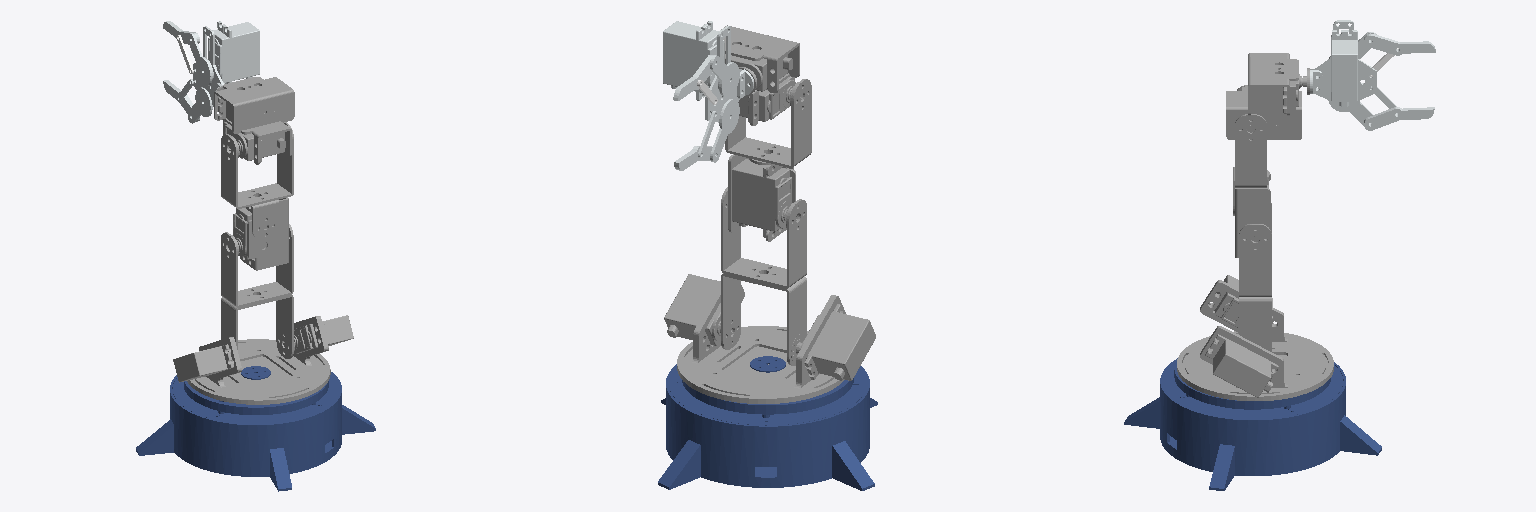
The robot description file, URDF, robot "robot_arm":
<?xml version="1.0" ?>
<!-- =================================================================================== -->
<!-- |    This document was autogenerated by xacro from robot_arm.xacro                | -->
<!-- |    EDITING THIS FILE BY HAND IS NOT RECOMMENDED                                 | -->
<!-- =================================================================================== -->
<robot name="robot_arm">
  <material name="silver">
    <color rgba="0.7 0.7 0.7 1.0"/>
  </material>
  <material name="blue">
    <color rgba="0.3 0.4 0.6 1.0"/>
  </material>
  <transmission name="joint_1_trans">
    <type>transmission_interface/SimpleTransmission</type>
    <joint name="joint_1">
      <hardwareInterface>hardware_interface/PositionJointInterface</hardwareInterface>
    </joint>
    <actuator name="joint_1_actr">
      <hardwareInterface>hardware_interface/PositionJointInterface</hardwareInterface>
      <mechanicalReduction>1</mechanicalReduction>
    </actuator>
  </transmission>
  <transmission name="joint_2_trans">
    <type>transmission_interface/SimpleTransmission</type>
    <joint name="joint_2">
      <hardwareInterface>hardware_interface/PositionJointInterface</hardwareInterface>
    </joint>
    <actuator name="joint_2_actr">
      <hardwareInterface>hardware_interface/PositionJointInterface</hardwareInterface>
      <mechanicalReduction>1</mechanicalReduction>
    </actuator>
  </transmission>
  <transmission name="joint_3_trans">
    <type>transmission_interface/SimpleTransmission</type>
    <joint name="joint_3">
      <hardwareInterface>hardware_interface/PositionJointInterface</hardwareInterface>
    </joint>
    <actuator name="joint_3_actr">
      <hardwareInterface>hardware_interface/PositionJointInterface</hardwareInterface>
      <mechanicalReduction>1</mechanicalReduction>
    </actuator>
  </transmission>
  <transmission name="joint_4_trans">
    <type>transmission_interface/SimpleTransmission</type>
    <joint name="joint_4">
      <hardwareInterface>hardware_interface/PositionJointInterface</hardwareInterface>
    </joint>
    <actuator name="joint_4_actr">
      <hardwareInterface>hardware_interface/PositionJointInterface</hardwareInterface>
      <mechanicalReduction>1</mechanicalReduction>
    </actuator>
  </transmission>
  <transmission name="joint_5_trans">
    <type>transmission_interface/SimpleTransmission</type>
    <joint name="joint_5">
      <hardwareInterface>hardware_interface/PositionJointInterface</hardwareInterface>
    </joint>
    <actuator name="joint_5_actr">
      <hardwareInterface>hardware_interface/PositionJointInterface</hardwareInterface>
      <mechanicalReduction>1</mechanicalReduction>
    </actuator>
  </transmission>
  <transmission name="gripper_joint_trans">
    <type>transmission_interface/SimpleTransmission</type>
    <joint name="gripper_joint">
      <hardwareInterface>hardware_interface/PositionJointInterface</hardwareInterface>
    </joint>
    <actuator name="gripper_joint_actr">
      <hardwareInterface>hardware_interface/PositionJointInterface</hardwareInterface>
      <mechanicalReduction>1</mechanicalReduction>
    </actuator>
  </transmission>
  <gazebo>
    <plugin filename="libgazebo_ros_control.so" name="gazebo_ros_control"/>
  </gazebo>
  <gazebo reference="base_link">
    <material>Gazebo/Silver</material>
    <mu1>0.2</mu1>
    <mu2>0.2</mu2>
    <selfCollide>true</selfCollide>
    <gravity>true</gravity>
  </gazebo>
  <gazebo reference="Link1_1">
    <material>Gazebo/Silver</material>
    <mu1>0.2</mu1>
    <mu2>0.2</mu2>
    <selfCollide>true</selfCollide>
  </gazebo>
  <gazebo reference="Link2_1">
    <material>Gazebo/Silver</material>
    <mu1>0.2</mu1>
    <mu2>0.2</mu2>
    <selfCollide>true</selfCollide>
  </gazebo>
  <gazebo reference="Link3_1">
    <material>Gazebo/Silver</material>
    <mu1>0.2</mu1>
    <mu2>0.2</mu2>
    <selfCollide>true</selfCollide>
  </gazebo>
  <gazebo reference="Link4_1">
    <material>Gazebo/Silver</material>
    <mu1>0.2</mu1>
    <mu2>0.2</mu2>
    <selfCollide>true</selfCollide>
  </gazebo>
  <link name="world"/>
  <joint name="base_fixed_joint" type="fixed">
    <parent link="world"/>
    <child link="base_link"/>
    <origin rpy="0 0 0" xyz="0 0 0"/>
  </joint>
  <link name="base_link">
    <inertial>
      <origin rpy="0 0 0" xyz="-0.0019226671084236508 0.03127199959893212 0.003074002176362074"/>
      <mass value="1.5374567570279134"/>
      <inertia ixx="0.0135" ixy="0.0" ixz="0.0" iyy="0.0135" iyz="0.0" izz="0.05"/>
    </inertial>
    <visual>
      <origin rpy="1.57 0 0" xyz="0 0 0"/>
      <geometry>
        <mesh filename="package://my_arm_description/meshes/base_link.stl" scale="0.001 0.001 0.001"/>
      </geometry>
      <material name="blue"/>
    </visual>
    <collision>
      <origin rpy="0 0 0" xyz="0 0 0"/>
      <geometry>
        <mesh filename="package://my_arm_description/meshes/base_link.stl" scale="0.001 0.001 0.001"/>
      </geometry>
    </collision>
  </link>
  <link name="Link1_1">
    <inertial>
      <origin rpy="0 0 0" xyz="-4.991869489348773e-06 0.01780900870871517 0.005735315172792203"/>
      <mass value="0.8948947756149551"/>
      <inertia ixx="0.000574" ixy="-1.2e-05" ixz="-2e-05" iyy="0.002344" iyz="-7.9e-05" izz="0.002106"/>
    </inertial>
    <visual>
      <origin rpy="0 0 0" xyz="0.002688 -0.06295 -0.001684"/>
      <geometry>
        <mesh filename="package://my_arm_description/meshes/Link1_1.stl" scale="0.001 0.001 0.001"/>
      </geometry>
      <material name="silver"/>
    </visual>
    <collision>
      <origin rpy="0 0 0" xyz="0.002688 -0.06295 -0.001684"/>
      <geometry>
        <mesh filename="package://my_arm_description/meshes/Link1_1.stl" scale="0.001 0.001 0.001"/>
      </geometry>
    </collision>
  </link>
  <link name="Link2_1">
    <inertial>
      <origin rpy="0 0 0" xyz="0.025500212363618904 0.050000197846483144 2.9486110807164234e-07"/>
      <mass value="0.1268747558623512"/>
      <inertia ixx="0.000111" ixy="0.0" ixz="-0.0" iyy="7.8e-05" iyz="-0.0" izz="0.000176"/>
    </inertial>
    <visual>
      <origin rpy="0 0 0" xyz="0.028738 -0.084331 -0.001684"/>
      <geometry>
        <mesh filename="package://my_arm_description/meshes/Link2_1.stl" scale="0.001 0.001 0.001"/>
      </geometry>
      <material name="silver"/>
    </visual>
    <collision>
      <origin rpy="0 0 0" xyz="0.028738 -0.084331 -0.001684"/>
      <geometry>
        <mesh filename="package://my_arm_description/meshes/Link2_1.stl" scale="0.001 0.001 0.001"/>
      </geometry>
    </collision>
  </link>
  <link name="Link3_1">
    <inertial>
      <origin rpy="0 0 0" xyz="0.027076002474259824 0.019409440802769573 0.002368883434935072"/>
      <mass value="0.3877413615001566"/>
      <inertia ixx="0.00025" ixy="1e-05" ixz="0.0" iyy="0.000103" iyz="-7e-06" izz="0.00031"/>
    </inertial>
    <visual>
      <origin rpy="0 0 0" xyz="0.028738 -0.184331 -0.001684"/>
      <geometry>
        <mesh filename="package://my_arm_description/meshes/Link3_1.stl" scale="0.001 0.001 0.001"/>
      </geometry>
      <material name="silver"/>
    </visual>
    <collision>
      <origin rpy="0 0 0" xyz="0.028738 -0.184331 -0.001684"/>
      <geometry>
        <mesh filename="package://my_arm_description/meshes/Link3_1.stl" scale="0.001 0.001 0.001"/>
      </geometry>
    </collision>
  </link>
  <link name="Link4_1">
    <inertial>
      <origin rpy="0 0 0" xyz="0.02792782389157162 0.0015768795382742895 -0.009656526599892783"/>
      <mass value="0.30477625056794005"/>
      <inertia ixx="6.9e-05" ixy="-1e-06" ixz="2e-06" iyy="9.7e-05" iyz="0.0" izz="5.9e-05"/>
    </inertial>
    <visual>
      <origin rpy="0 0 0" xyz="0.030288 -0.27563 -0.005184"/>
      <geometry>
        <mesh filename="package://my_arm_description/meshes/Link4_1.stl" scale="0.001 0.001 0.001"/>
      </geometry>
      <material name="silver"/>
    </visual>
    <collision>
      <origin rpy="0 0 0" xyz="0.030288 -0.27563 -0.005184"/>
      <geometry>
        <mesh filename="package://my_arm_description/meshes/Link4_1.stl" scale="0.001 0.001 0.001"/>
      </geometry>
    </collision>
  </link>
  <link name="Link5_1">
    <inertial>
      <origin rpy="0 0 0" xyz="0.02792782389157162 0.0015768795382742895 -0.009656526599892783"/>
      <mass value="0.30477625056794005"/>
      <inertia ixx="6.9e-05" ixy="-1e-06" ixz="2e-06" iyy="9.7e-05" iyz="0.0" izz="5.9e-05"/>
    </inertial>
    <visual>
      <origin rpy="0 0 0" xyz="0.030288 -0.27563 -0.005184"/>
      <geometry>
        <mesh filename="package://my_arm_description/meshes/Link4_1.stl" scale="0.001 0.001 0.001"/>
      </geometry>
      <material name="silver"/>
    </visual>
    <collision>
      <origin rpy="0 0 0" xyz="0.030288 -0.27563 -0.005184"/>
      <geometry>
        <mesh filename="package://my_arm_description/meshes/Link4_1.stl" scale="0.001 0.001 0.001"/>
      </geometry>
    </collision>
  </link>
  <joint name="joint_1" type="revolute">
    <origin rpy="1.57 0 0" xyz="0 0 0.06"/>
    <parent link="base_link"/>
    <child link="Link1_1"/>
    <axis xyz="0 1 0"/>
    <limit effort="5.0" lower="-3.14" upper="3.14" velocity="1.57"/>
    <dynamics damping="0.05" friction="0.05"/>
  </joint>
  <joint name="joint_2" type="revolute">
    <origin rpy="0 0 0" xyz="-0.02605 0.021381 0.0"/>
    <parent link="Link1_1"/>
    <child link="Link2_1"/>
    <axis xyz="-1 0 0"/>
    <limit effort="5.0" lower="-1.57" upper="1.57" velocity="1.57"/>
    <dynamics damping="0.05" friction="0.05"/>
  </joint>
  <joint name="joint_3" type="revolute">
    <origin rpy="0 0 0" xyz="0.0 0.1 0.0"/>
    <parent link="Link2_1"/>
    <child link="Link3_1"/>
    <axis xyz="-1 0 0"/>
    <limit effort="5.0" lower="-2.2" upper="2.2" velocity="1.57"/>
    <dynamics damping="0.05" friction="0.05"/>
  </joint>
  <joint name="joint_4" type="revolute">
    <origin rpy="0 0 0" xyz="-0.00155 0.091299 0.0035"/>
    <parent link="Link3_1"/>
    <child link="Link4_1"/>
    <axis xyz="-1 0 0"/>
    <limit effort="5.0" lower="-3.14" upper="1.2" velocity="1.57"/>
    <dynamics damping="0.05" friction="0.05"/>
  </joint>
  <joint name="joint_5_fixed" type="fixed">
    <origin rpy="0 -1.57 0" xyz="0.02 0.025 -0.045"/>
    <parent link="Link4_1"/>
    <child link="Link5_1"/>
  </joint>
  <!-- gripper -->
  <joint name="joint_5" type="revolute">
    <origin rpy="1.57 0 -1.57" xyz="0 0 0"/>
    <parent link="Link5_1"/>
    <child link="grip_base_link"/>
    <axis xyz="0 0 1"/>
    <limit effort="5.0" lower="-3.14" upper="3.14" velocity="1.57"/>
  </joint>
  <link name="grip_base_link">
    <inertial>
      <origin rpy="0 0 0" xyz="-0.020531 -0.021072 0.02563"/>
      <mass value="0.0367"/>
      <inertia ixx="5.4785E-06" ixy="-5.5445E-08" ixz="-8.0352E-09" iyy="7.0866E-06" iyz="-7.7291E-13" izz="9.4579E-06"/>
    </inertial>
    <visual>
      <origin rpy="0 0 0" xyz="0 0 0"/>
      <geometry>
        <mesh filename="package://my_arm_description/meshes/gripper_meshes/grip_base_link.STL"/>
      </geometry>
      <material name="">
        <color rgba="0.89804 0.92157 0.92941 1"/>
      </material>
    </visual>
    <collision>
      <origin rpy="0 0 0" xyz="0 0 0"/>
      <geometry>
        <mesh filename="package://my_arm_description/meshes/gripper_meshes/grip_base_link.STL"/>
      </geometry>
    </collision>
  </link>
  <link name="hand_link1">
    <inertial>
      <origin rpy="0 0 0" xyz="-0.00523492547000686 0.00492501926066897 -0.00100000000000003"/>
      <mass value="0.00142065726893586"/>
      <inertia ixx="1.22964066308207E-07" ixy="8.46203793647206E-08" ixz="3.23650142493458E-27" iyy="1.33298297071557E-07" iyz="-7.87479068447034E-25" izz="2.55315258533807E-07"/>
    </inertial>
    <visual>
      <origin rpy="0 0 0" xyz="0 0 0"/>
      <geometry>
        <mesh filename="package://my_arm_description/meshes/gripper_meshes/hand_link1.STL"/>
      </geometry>
      <material name="">
        <color rgba="0.898039215686275 0.92156862745098 0.929411764705882 1"/>
      </material>
    </visual>
    <collision>
      <origin rpy="0 0 0" xyz="0 0 0"/>
      <geometry>
        <mesh filename="package://my_arm_description/meshes/gripper_meshes/hand_link1.STL"/>
      </geometry>
    </collision>
  </link>
  <joint name="hand_joint1" type="revolute">
    <origin rpy="1.5708 0 3.1416" xyz="0.015 0.00535 0.02625"/>
    <parent link="grip_base_link"/>
    <child link="hand_link1"/>
    <axis xyz="0 0 1"/>
    <limit effort="10" lower="-0.5" upper="0.5" velocity="10"/>
    <mimic joint="gripper_joint" multiplier="1"/>
  </joint>
  <link name="hand_grip1">
    <inertial>
      <origin rpy="0 0 0" xyz="0.00594567238082101 0.0203210851839823 -0.00399999969237515"/>
      <mass value="0.00187045062582082"/>
      <inertia ixx="4.0782602368236E-07" ixy="-7.95845983485053E-08" ixz="-1.31395403259131E-14" iyy="3.53476941089525E-08" iyz="-2.03499073074993E-14" izz="4.38185846898205E-07"/>
    </inertial>
    <visual>
      <origin rpy="0 0 0" xyz="0 0 0"/>
      <geometry>
        <mesh filename="package://my_arm_description/meshes/gripper_meshes/hand_grip1.STL"/>
      </geometry>
      <material name="">
        <color rgba="0.898039215686275 0.92156862745098 0.929411764705882 1"/>
      </material>
    </visual>
    <collision>
      <origin rpy="0 0 0" xyz="0 0 0"/>
      <geometry>
        <mesh filename="package://my_arm_description/meshes/gripper_meshes/hand_grip1.STL"/>
      </geometry>
    </collision>
  </link>
  <joint name="hand_grip_joint1" type="revolute">
    <origin rpy="0 0 0" xyz="-0.021122 0.019871 0"/>
    <parent link="hand_link1"/>
    <child link="hand_grip1"/>
    <axis xyz="0 0 1"/>
    <limit effort="10" lower="-0.5" upper="0.5" velocity="10"/>
    <mimic joint="hand_joint1" multiplier="-1"/>
  </joint>
  <link name="hand_link2">
    <inertial>
      <origin rpy="0 0 0" xyz="0.00521580581542747 0.00494526329837284 -0.00100000000000003"/>
      <mass value="0.00142065726893586"/>
      <inertia ixx="1.2361988419095E-07" ixy="-8.46578754757815E-08" ixz="6.873768146667E-25" iyy="1.32642479188815E-07" iyz="7.7917326290555E-25" izz="2.55315258533807E-07"/>
    </inertial>
    <visual>
      <origin rpy="0 0 0" xyz="0 0 0"/>
      <geometry>
        <mesh filename="package://my_arm_description/meshes/gripper_meshes/hand_link2.STL"/>
      </geometry>
      <material name="">
        <color rgba="0.898039215686275 0.92156862745098 0.929411764705882 1"/>
      </material>
    </visual>
    <collision>
      <origin rpy="0 0 0" xyz="0 0 0"/>
      <geometry>
        <mesh filename="package://my_arm_description/meshes/gripper_meshes/hand_link2.STL"/>
      </geometry>
    </collision>
  </link>
  <joint name="gripper_joint" type="revolute">
    <origin rpy="1.5708 0 3.1416" xyz="-0.013 0.00535 0.02625"/>
    <parent link="grip_base_link"/>
    <child link="hand_link2"/>
    <axis xyz="0 0 -1"/>
    <limit effort="10" lower="-0.5" upper="0.5" velocity="1.0"/>
  </joint>
  <link name="hand_grip2">
    <inertial>
      <origin rpy="0 0 0" xyz="-0.00445045993813949 0.020700021082788 -0.00400000030762493"/>
      <mass value="0.00187045056346137"/>
      <inertia ixx="4.17408949625888E-07" ixy="5.16953875644496E-08" ixz="-1.17218822252589E-14" iyy="2.57647082341614E-08" iyz="2.12711331247855E-14" izz="4.38185787066717E-07"/>
    </inertial>
    <visual>
      <origin rpy="0 0 0" xyz="0 0 0"/>
      <geometry>
        <mesh filename="package://my_arm_description/meshes/gripper_meshes/hand_grip2.STL"/>
      </geometry>
      <material name="">
        <color rgba="0.898039215686275 0.92156862745098 0.929411764705882 1"/>
      </material>
    </visual>
    <collision>
      <origin rpy="0 0 0" xyz="0 0 0"/>
      <geometry>
        <mesh filename="package://my_arm_description/meshes/gripper_meshes/hand_grip2.STL"/>
      </geometry>
    </collision>
  </link>
  <joint name="hand_grip_joint2" type="revolute">
    <origin rpy="0 0 0" xyz="0.021045 0.019953 0"/>
    <parent link="hand_link2"/>
    <child link="hand_grip2"/>
    <axis xyz="0 0 -1"/>
    <limit effort="10" lower="-0.4" upper="0.4" velocity="10"/>
    <mimic joint="gripper_joint" multiplier="-1"/>
  </joint>
  <link name="mid_link1">
    <inertial>
      <origin rpy="0 0 0" xyz="-0.0113240288488907 0.00983698991711786 -0.00100000000000003"/>
      <mass value="0.000310995574287565"/>
      <inertia ixx="1.1783554463848E-08" ixy="1.26737094661928E-08" ixz="7.03369446242362E-26" iyy="1.53636899711256E-08" iyz="3.46383537128379E-26" izz="2.69399140521153E-08"/>
    </inertial>
    <visual>
      <origin rpy="0 0 0" xyz="0 0 0"/>
      <geometry>
        <mesh filename="package://my_arm_description/meshes/gripper_meshes/mid_link1.STL"/>
      </geometry>
      <material name="">
        <color rgba="0.898039215686275 0.92156862745098 0.929411764705882 1"/>
      </material>
    </visual>
    <collision>
      <origin rpy="0 0 0" xyz="0 0 0"/>
      <geometry>
        <mesh filename="package://my_arm_description/meshes/gripper_meshes/mid_link1.STL"/>
      </geometry>
    </collision>
  </link>
  <joint name="mid_joint_1" type="revolute">
    <origin rpy="1.5708 0 3.1416" xyz="0.005 0.00535 0.04675"/>
    <parent link="grip_base_link"/>
    <child link="mid_link1"/>
    <axis xyz="0 0 -1"/>
    <limit effort="10" lower="-0.6" upper="0.6" velocity="10"/>
    <mimic joint="gripper_joint" multiplier="-1"/>
  </joint>
  <link name="mid_link2">
    <inertial>
      <origin rpy="0 0 0" xyz="0 0 0"/>
      <mass value="0"/>
      <inertia ixx="0" ixy="0" ixz="0" iyy="0" iyz="0" izz="0"/>
    </inertial>
    <visual>
      <origin rpy="0 0 0" xyz="0 0 0"/>
      <geometry>
        <mesh filename="package://my_arm_description/meshes/gripper_meshes/mid_link2.STL"/>
      </geometry>
      <material name="">
        <color rgba="1 1 1 1"/>
      </material>
    </visual>
    <collision>
      <origin rpy="0 0 0" xyz="0 0 0"/>
      <geometry>
        <mesh filename="package://my_arm_description/meshes/gripper_meshes/mid_link2.STL"/>
      </geometry>
    </collision>
  </link>
  <joint name="mid_joint2" type="revolute">
    <origin rpy="1.5708 0 3.1416" xyz="-0.005 0.00535 0.04675"/>
    <parent link="grip_base_link"/>
    <child link="mid_link2"/>
    <axis xyz="0 0 -1"/>
    <limit effort="10" lower="-0.6" upper="0.6" velocity="10"/>
    <mimic joint="gripper_joint" multiplier="1"/>
  </joint>
  <!-- TCP -->
  <link name="tool_link"/>
  <joint name="tool_joint" type="fixed">
    <origin rpy="0 0 0" xyz="0 0 0.1"/>
    <parent link="grip_base_link"/>
    <child link="tool_link"/>
  </joint>
</robot>

--- Render facts (derived) ---
The picture shows the robot from 3 angles, left to right: view 1: azimuth 30°, elevation 25°; view 2: azimuth 150°, elevation 25°; view 3: azimuth 270°, elevation 25°; orthographic projection.
Robot: robot_arm — 15 links, 14 joints (11 revolute, 3 fixed); root link world; default pose: every joint at zero.
Links seen in each view (by area): view 1: base_link, Link1_1, Link3_1, Link2_1, Link5_1, grip_base_link, Link4_1, hand_link2, hand_link1; view 2: base_link, Link1_1, Link3_1, Link2_1, grip_base_link, Link5_1, Link4_1, hand_link1, hand_link2, hand_grip2; view 3: base_link, Link1_1, Link3_1, Link2_1, grip_base_link, Link5_1, Link4_1, hand_grip1, hand_grip2.
Link boxes in pixels (box(x1,y1,x2,y2)): base_link: box(136, 366, 375, 491); Link1_1: box(173, 315, 353, 404); Link3_1: box(221, 122, 293, 270); Link2_1: box(221, 224, 293, 358); Link5_1: box(214, 77, 294, 133); grip_base_link: box(193, 21, 259, 106); Link4_1: box(223, 118, 291, 164); hand_link2: box(187, 33, 212, 86); hand_link1: box(188, 87, 212, 123); base_link: box(658, 356, 877, 490); Link1_1: box(664, 274, 875, 403); Link3_1: box(725, 79, 811, 241); Link2_1: box(721, 187, 806, 365); grip_base_link: box(663, 21, 753, 122); Link5_1: box(721, 25, 799, 95); Link4_1: box(738, 73, 802, 125); hand_link1: box(710, 99, 739, 162); hand_link2: box(710, 55, 739, 97); hand_grip2: box(673, 55, 713, 100); base_link: box(1124, 358, 1381, 490); Link1_1: box(1177, 275, 1333, 400); Link3_1: box(1233, 85, 1270, 257); Link2_1: box(1239, 203, 1271, 351); grip_base_link: box(1310, 20, 1376, 106); Link5_1: box(1248, 53, 1309, 115); Link4_1: box(1226, 86, 1301, 139); hand_grip1: box(1364, 107, 1434, 130); hand_grip2: box(1364, 33, 1435, 55).
Size in the robot's own frame: 0.1969 by 0.2378 by 0.3478 metres.
Meshes: 12 distinct files referenced, 13 mesh visuals loaded (12 binary STL).